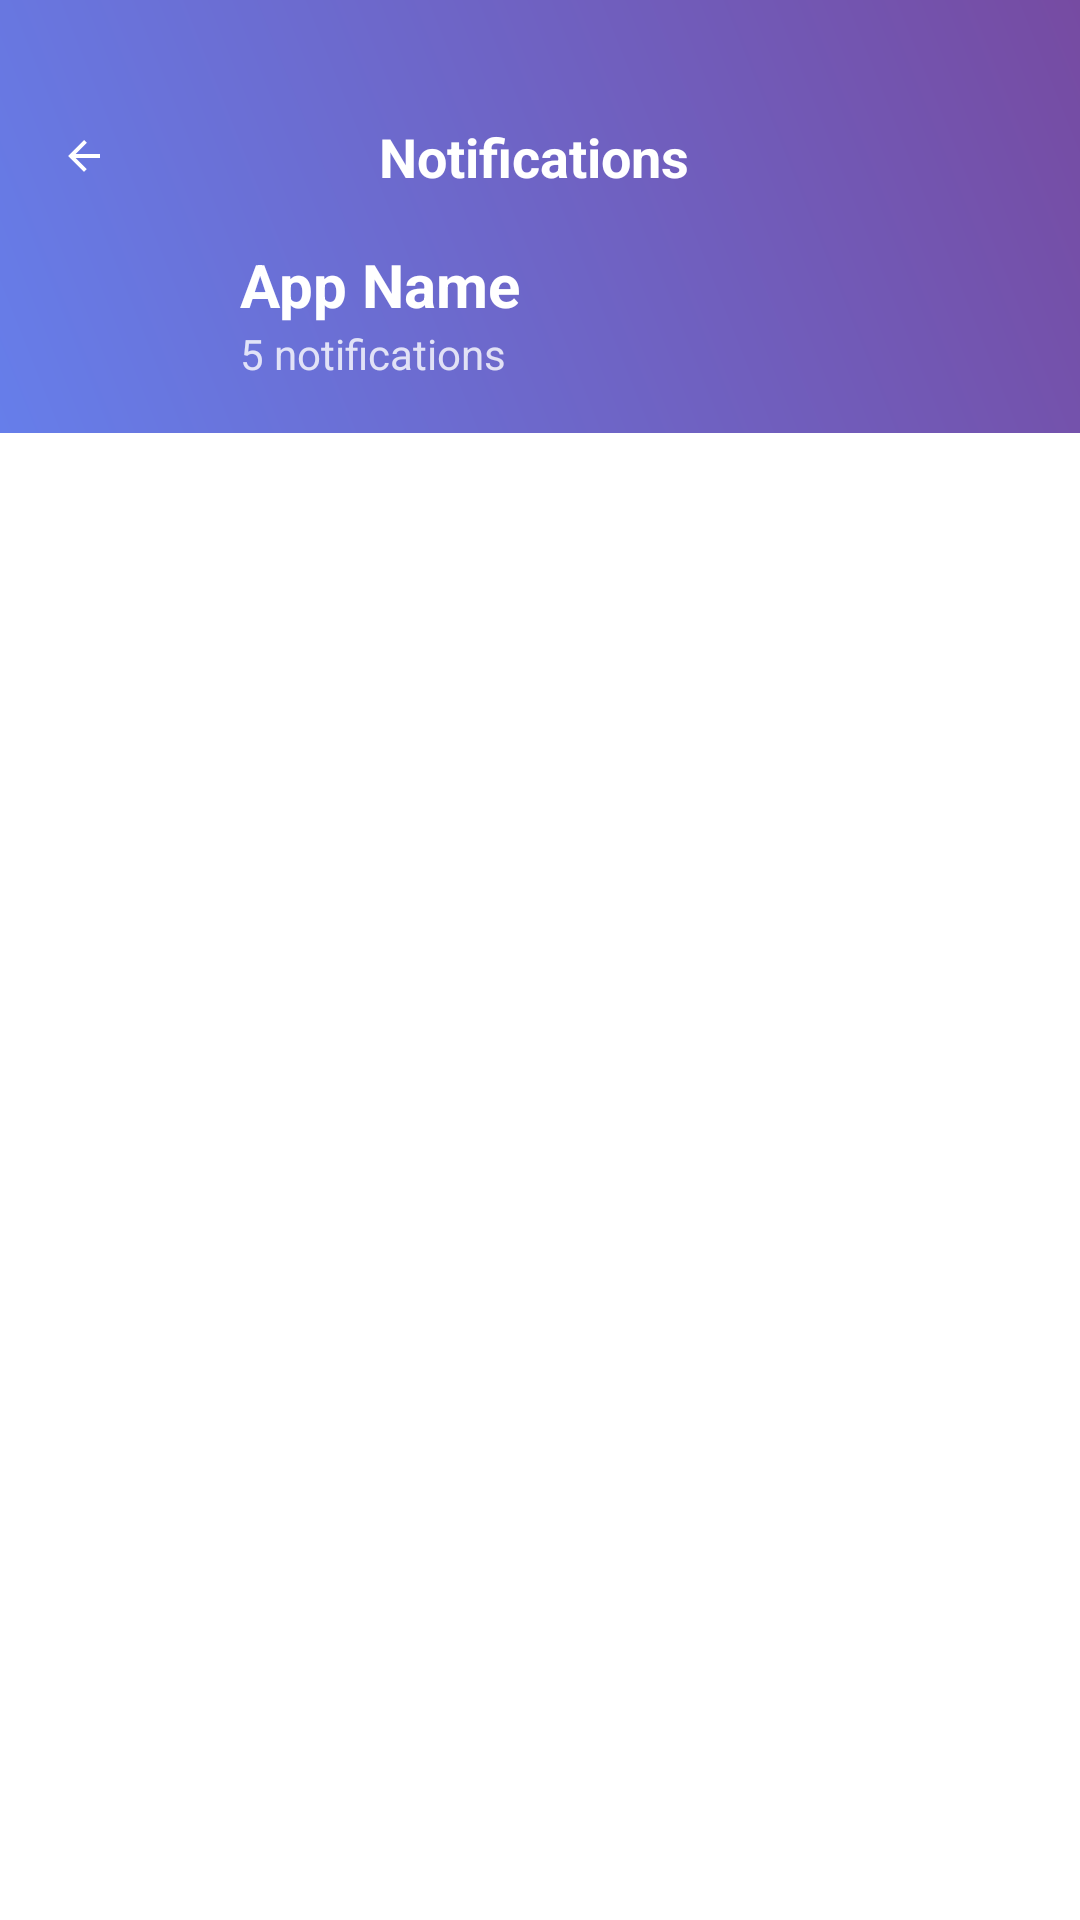

Screen size 1080x1920. Icon name, then its box in pixels as box(x1, y1, x2, y2):
Back: box(68, 140, 100, 172)
